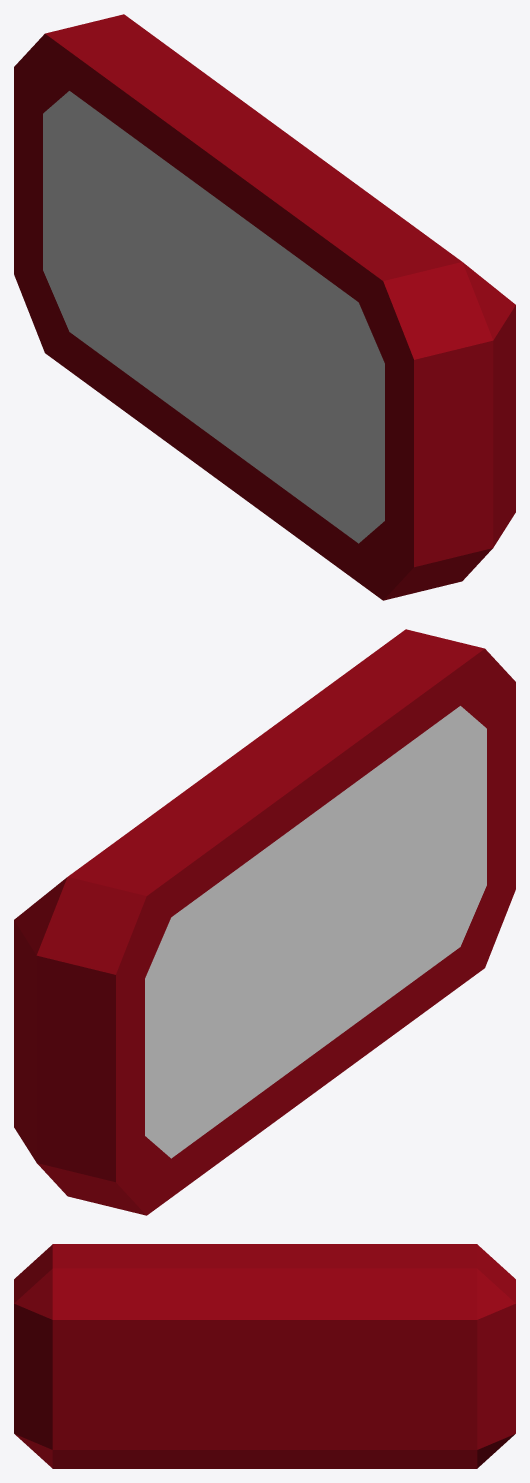
Rendered from RedPork_Head.fbx.
3 views of the same model, one above another, from view 1: azimuth 30°, elevation 25°; view 2: azimuth 150°, elevation 25°; view 3: azimuth 270°, elevation 25° (orthographic). The views are drawn at different scales.
Parts seen in each view (by area): view 1: pCube12; view 2: pCube12; view 3: pCube12.
Part boxes in pixels (x1,y1,x2,y2): pCube12: (14,14,515,600); pCube12: (14,629,515,1215); pCube12: (14,1244,515,1468).
Bounding box in the file's own units: 0.0495 × 0.1138 × 0.2582.
